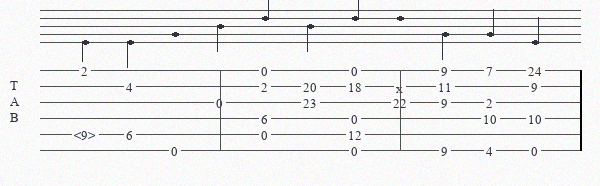0: (171, 144, 182, 157), (216, 96, 227, 109), (261, 128, 272, 141), (261, 64, 272, 77), (351, 64, 362, 77), (351, 112, 362, 125), (351, 144, 362, 157), (531, 144, 542, 157)
10: (483, 112, 501, 125), (528, 112, 546, 125)
11: (438, 80, 456, 93)
12: (348, 128, 366, 141)
18: (348, 80, 366, 93)
2: (81, 64, 92, 77), (261, 80, 272, 93), (486, 96, 497, 109)
20: (303, 80, 321, 93)
22: (393, 96, 411, 109)
23: (303, 96, 321, 109)
24: (528, 64, 546, 77)
4: (126, 80, 137, 93), (486, 144, 497, 157)
6: (126, 128, 137, 141), (261, 112, 272, 125)
7: (486, 64, 497, 77)
9: (441, 64, 452, 77), (441, 144, 452, 157), (441, 96, 452, 109), (531, 80, 542, 93)
harmonic: (74, 128, 100, 141)
x: (396, 81, 407, 91)
